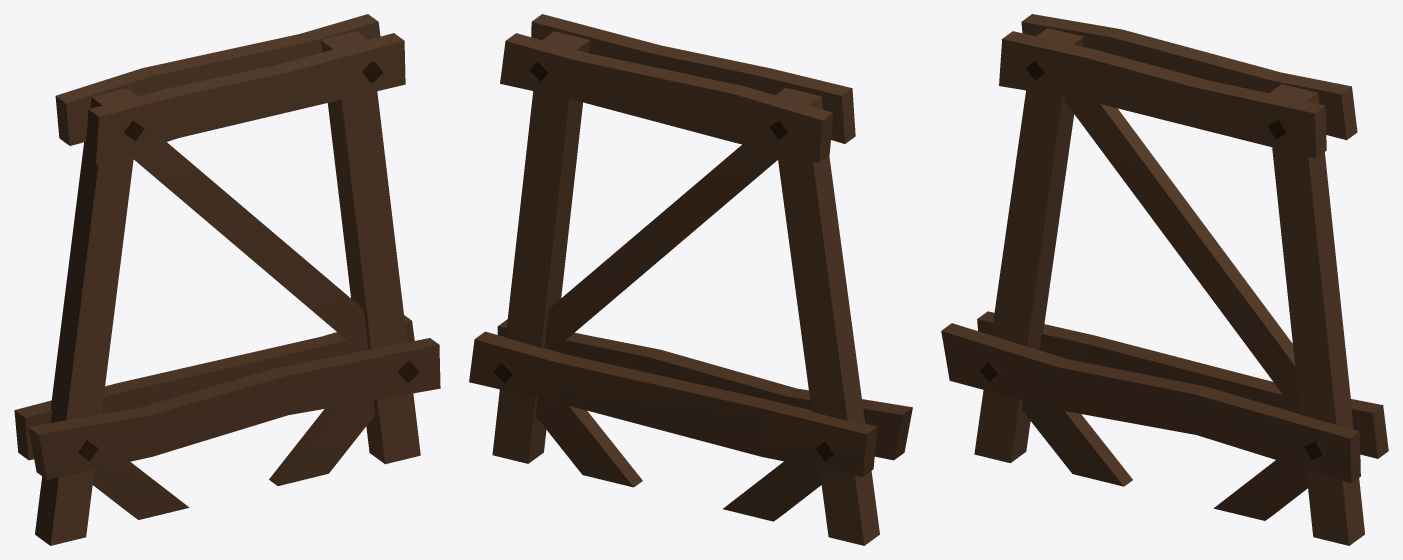
Rendered from Beam Exterior 3.glb.
3 renders of one model, left to right at view 1: azimuth 30°, elevation 25°; view 2: azimuth 150°, elevation 25°; view 3: azimuth 330°, elevation 25°, orthographic.
Visible parts, largest first — view 1: Beam Exterior 3; view 2: Beam Exterior 3; view 3: Beam Exterior 3.
Boxes of the visible parts, x1,y1,x2,y2 form: Beam Exterior 3: (14,14,440,545); Beam Exterior 3: (469,14,912,545); Beam Exterior 3: (941,14,1388,545).
Size of what is drawn, in the model's own units: 4 by 4.05 by 0.6949.
Materials: 1 (1 with a texture image).
